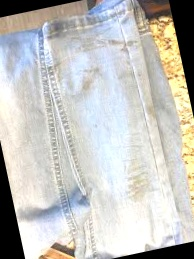earth: (124, 162, 152, 202), (77, 66, 103, 90), (73, 34, 103, 54), (111, 35, 134, 53)
